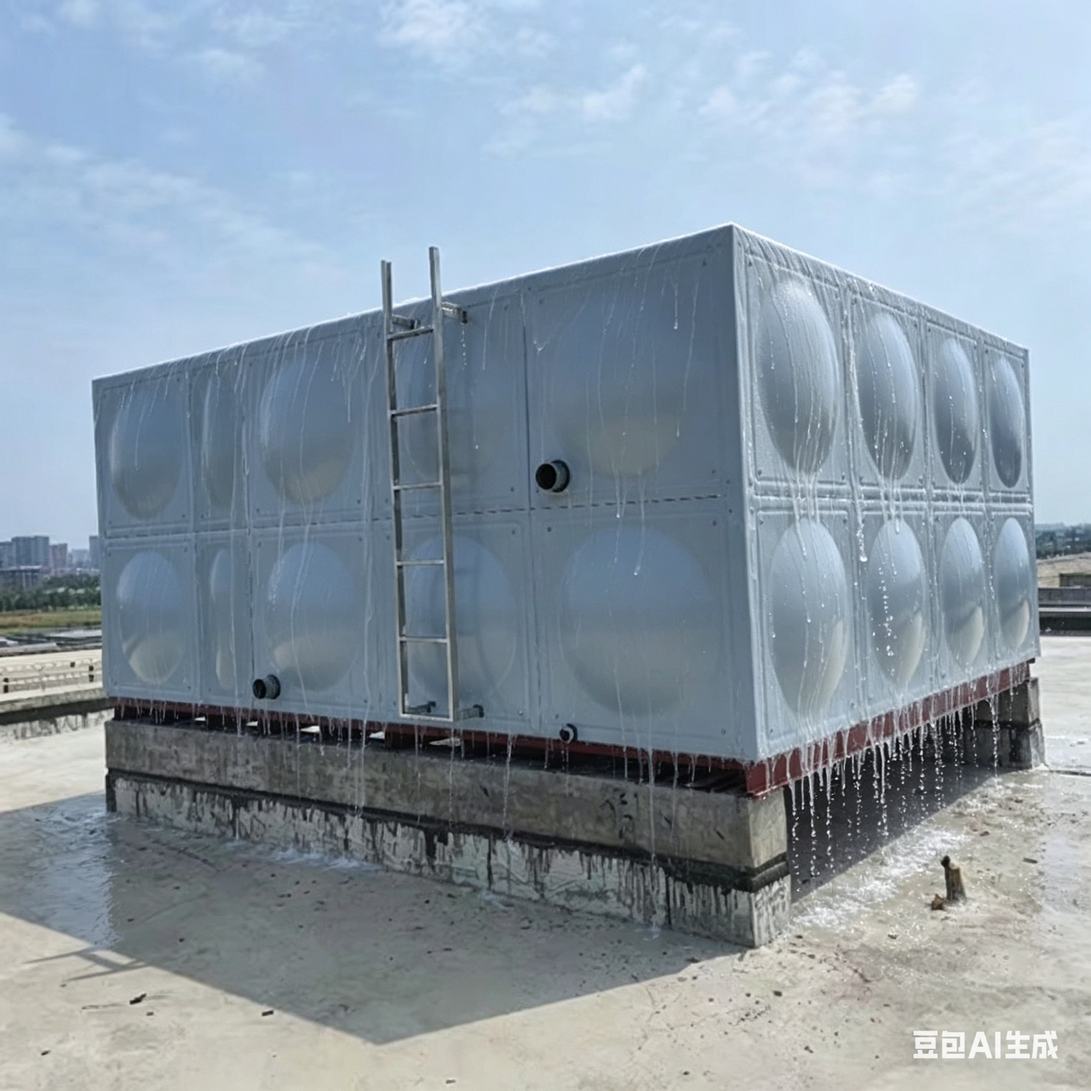Leakage: (82, 371, 1041, 752), (734, 247, 1025, 367), (792, 762, 1005, 892)
